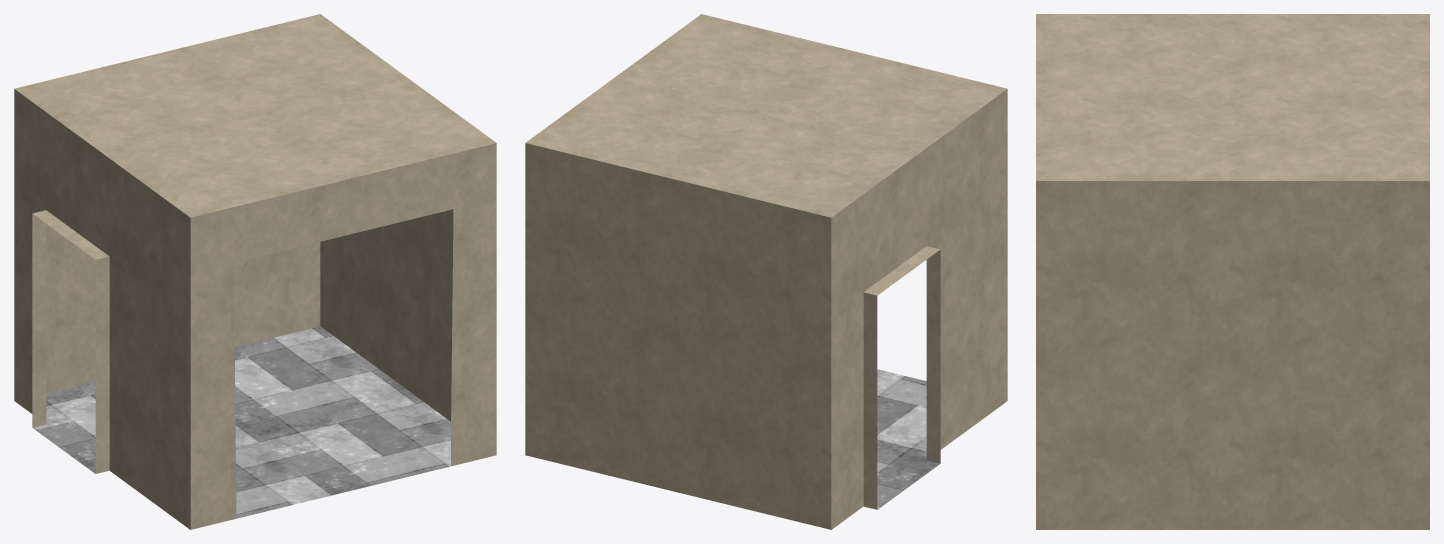
The model's file is stage-structure-backstage.glb.
The picture shows the model from 3 angles, left to right: view 1: azimuth 30°, elevation 25°; view 2: azimuth 150°, elevation 25°; view 3: azimuth 270°, elevation 25°; orthographic projection. The views are drawn at different scales.
Parts seen in each view (by area): view 1: Stage_Structure_Backstage; view 2: Stage_Structure_Backstage; view 3: Stage_Structure_Backstage.
Part boxes in pixels (<box>): Stage_Structure_Backstage: <box>14,14,496,529</box>; Stage_Structure_Backstage: <box>525,14,1007,529</box>; Stage_Structure_Backstage: <box>1036,14,1429,529</box>.
Bounding box in the file's own units: 5.71 × 5.32 × 5.44.
Materials: 2 (2 with a texture image).
